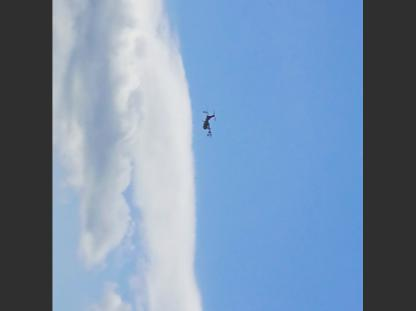Tu95: (203, 107, 217, 137)
